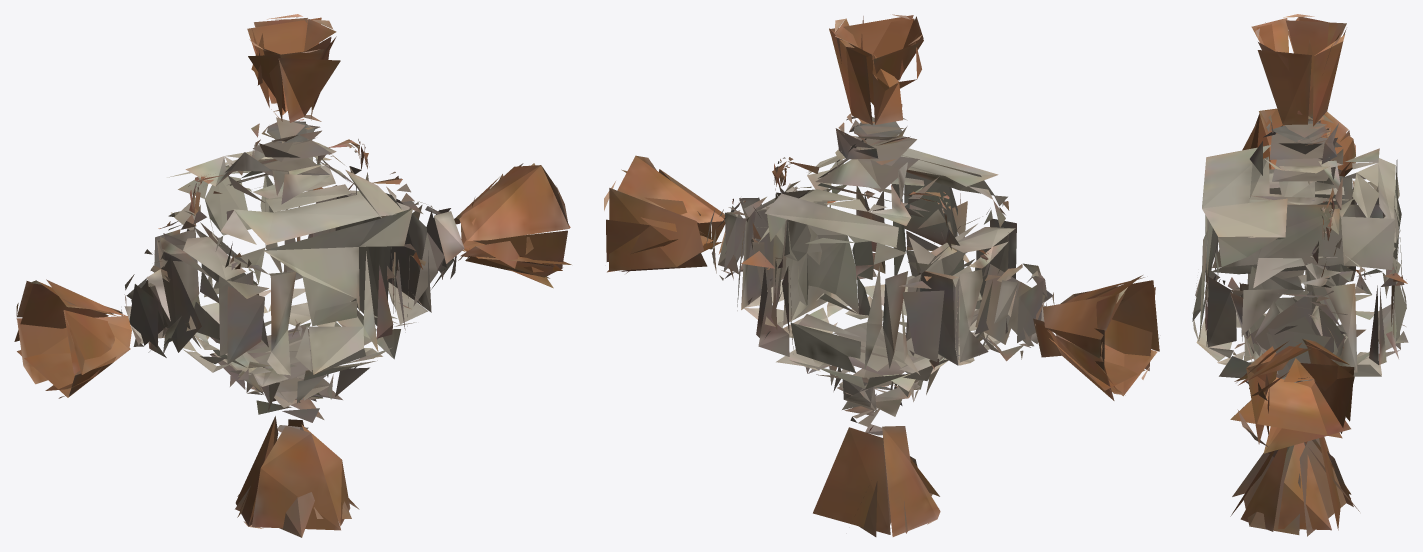
Rendered from propulseurs-bas.glb.
3 views of the same model, side by side, from view 1: azimuth 30°, elevation 25°; view 2: azimuth 150°, elevation 25°; view 3: azimuth 270°, elevation 25° (orthographic).
Parts seen in each view (by area): view 1: propulseurs-bas; view 2: propulseurs-bas; view 3: propulseurs-bas.
Boxes of the visible parts, box(x1,y1,x2,y2) form: propulseurs-bas: box(14, 14, 571, 537); propulseurs-bas: box(604, 14, 1159, 536); propulseurs-bas: box(1192, 14, 1408, 536).
Bounding box in the file's own units: 1.4 × 1.29 × 0.5179.
1 material, 1 textured.
